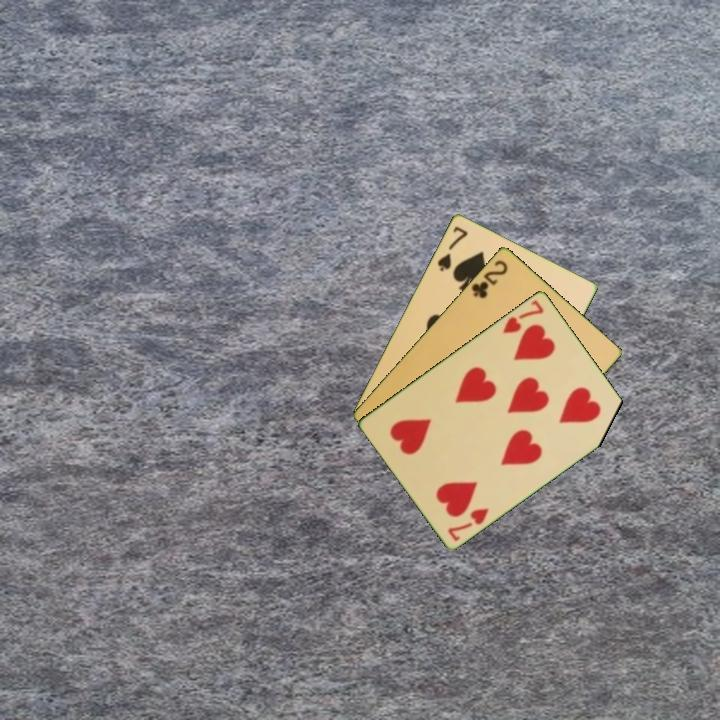2c: (468, 256, 511, 301)
7h: (499, 296, 547, 336), (444, 504, 492, 544)
7s: (434, 222, 471, 274)
